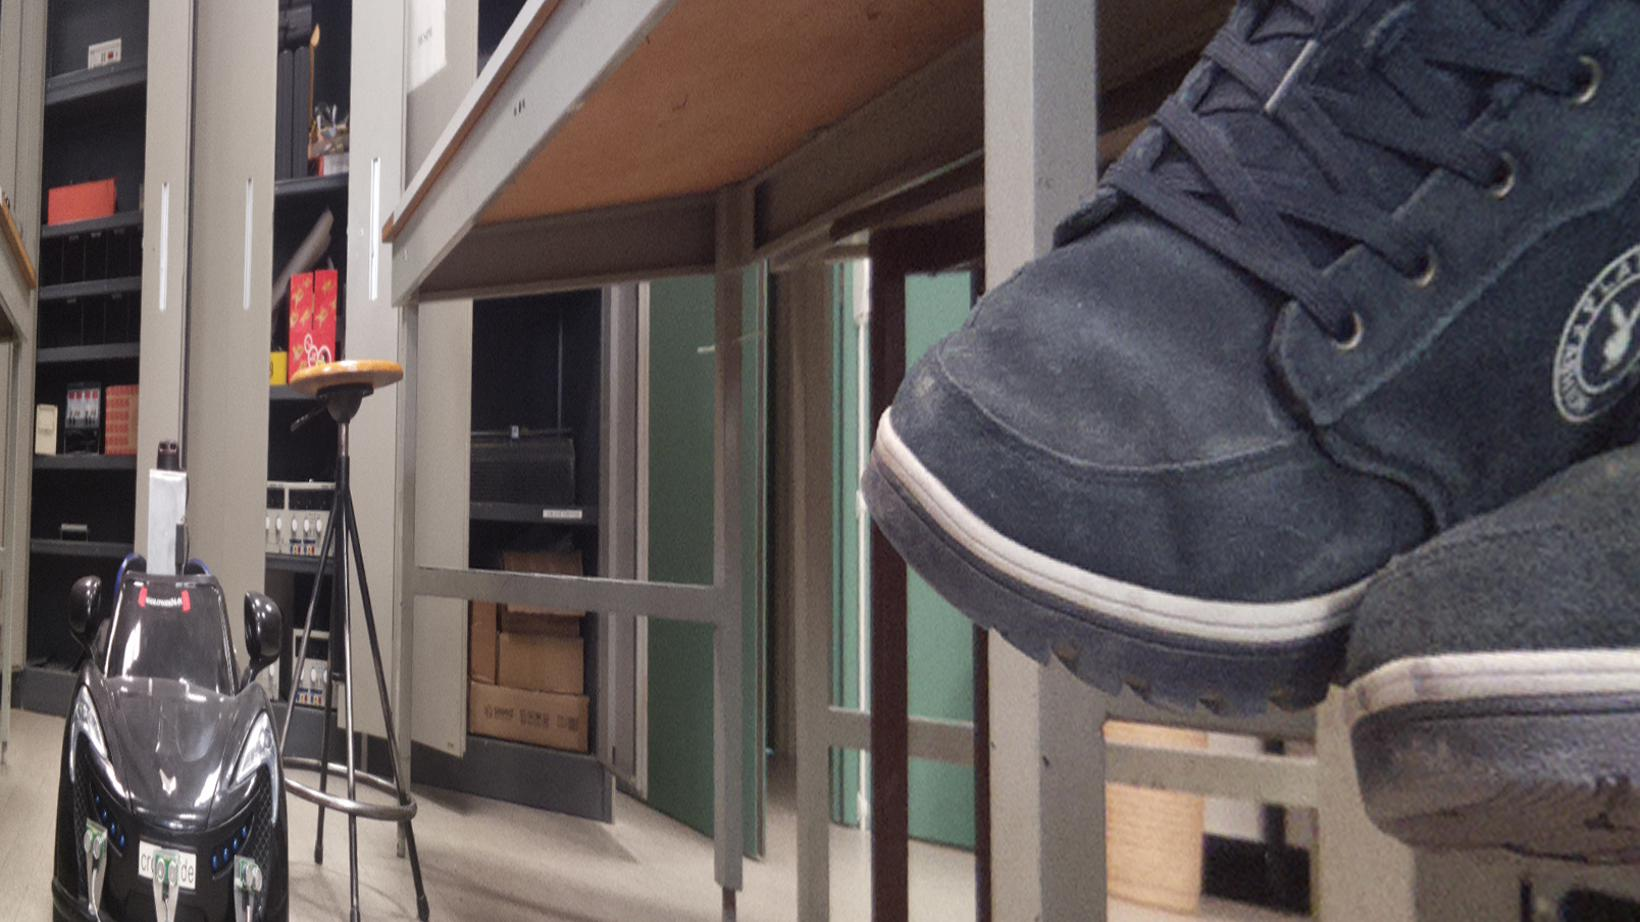big: (46, 550, 294, 922)
